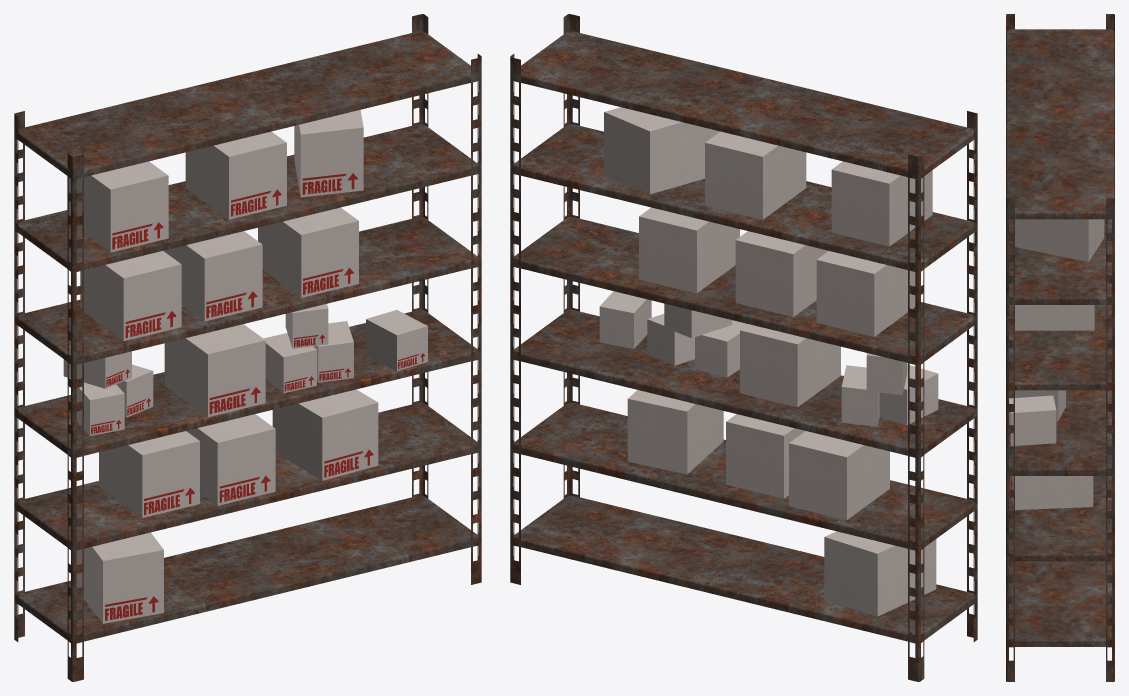
File: estanteria.glb
3 views of the same model, side by side, from view 1: azimuth 30°, elevation 25°; view 2: azimuth 150°, elevation 25°; view 3: azimuth 270°, elevation 25° (orthographic). The views are drawn at different scales.
Parts seen in each view (by area): view 1: estanteria; view 2: estanteria; view 3: estanteria.
Boxes of the visible parts, x1,y1,x2,y2 form: estanteria: (14,14,481,681); estanteria: (510,14,977,681); estanteria: (1006,14,1114,681).
Bounding box in the file's own units: 2 × 2.45 × 0.5.
4 materials, 3 textured.
